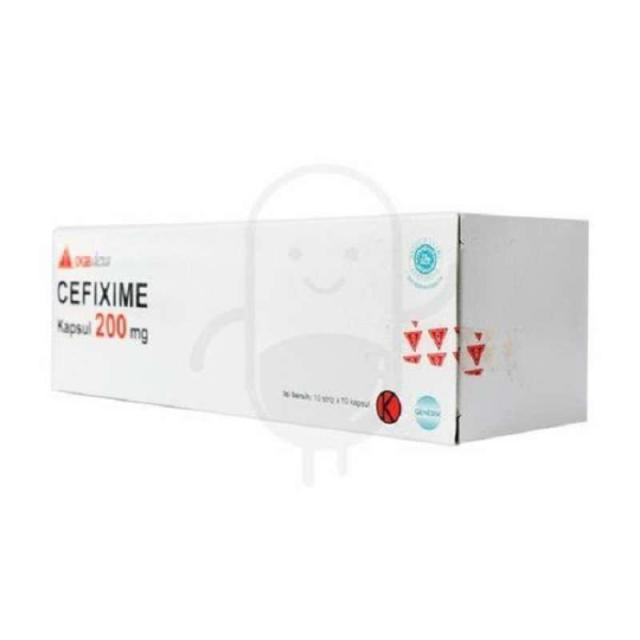drug-name: (54, 275, 154, 314)
